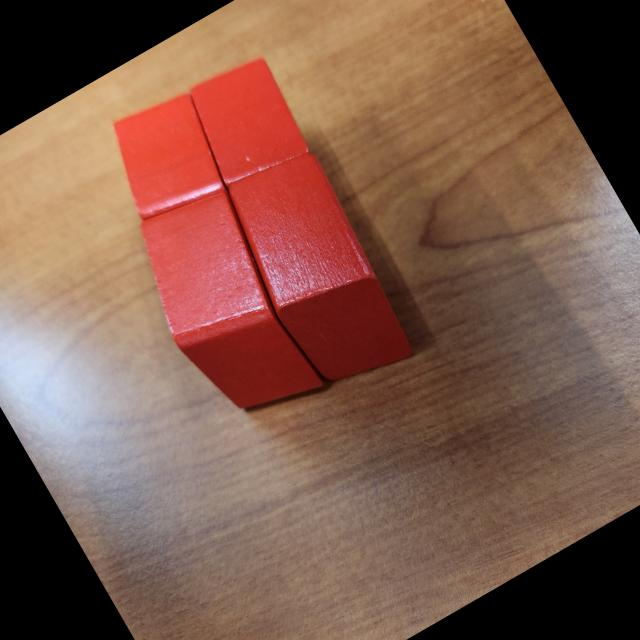red: (113, 176, 337, 443), (207, 138, 427, 406), (90, 80, 249, 248), (172, 48, 318, 200)
